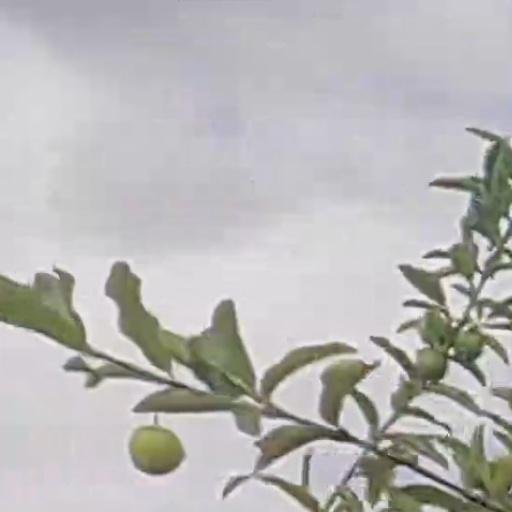acerola: (132, 426, 182, 475)
